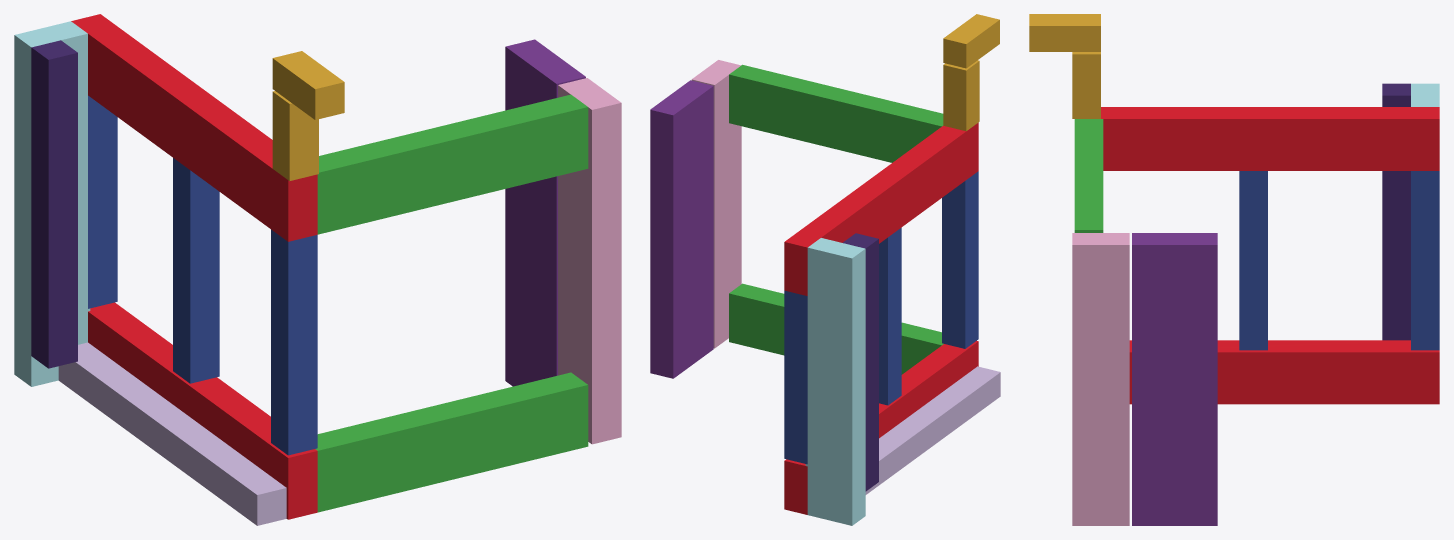
Rendered from tinker.obj.
3 views of the same model, side by side, from view 1: azimuth 30°, elevation 25°; view 2: azimuth 150°, elevation 25°; view 3: azimuth 270°, elevation 25° (orthographic). The views are drawn at different scales.
Parts seen in each view (by area): view 1: group_0_4634441, group_0_15277357, group_0_3888547, group_0_15708628, group_0_4796018, group_0_8273816, group_0_13877221, group_0_11593967, group_0_14789940; view 2: group_0_8273816, group_0_4634441, group_0_11593967, group_0_15277357, group_0_3888547, group_0_15708628, group_0_13877221, group_0_14789940, group_0_4796018; view 3: group_0_15277357, group_0_8273816, group_0_15708628, group_0_3888547, group_0_4796018, group_0_14789940, group_0_4634441, group_0_11593967.
Part boxes in pixels (<box>): group_0_4634441: <box>315,94,588,512</box>; group_0_15277357: <box>71,14,317,519</box>; group_0_3888547: <box>88,95,317,455</box>; group_0_15708628: <box>558,78,621,444</box>; group_0_4796018: <box>31,40,77,368</box>; group_0_8273816: <box>505,39,585,386</box>; group_0_13877221: <box>58,342,286,525</box>; group_0_11593967: <box>14,21,90,386</box>; group_0_14789940: <box>272,51,344,180</box>; group_0_8273816: <box>650,80,713,378</box>; group_0_4634441: <box>729,64,943,374</box>; group_0_11593967: <box>805,238,865,525</box>; group_0_15277357: <box>784,122,978,514</box>; group_0_3888547: <box>784,171,978,464</box>; group_0_15708628: <box>691,60,741,348</box>; group_0_13877221: <box>865,366,1000,494</box>; group_0_14789940: <box>943,14,999,131</box>; group_0_4796018: <box>843,233,878,491</box>; group_0_15277357: <box>1101,107,1439,404</box>; group_0_8273816: <box>1132,233,1217,525</box>; group_0_15708628: <box>1072,233,1129,525</box>; group_0_3888547: <box>1239,171,1439,350</box>; group_0_4796018: <box>1382,83,1410,340</box>; group_0_14789940: <box>1029,14,1100,118</box>; group_0_4634441: <box>1074,119,1103,232</box>; group_0_11593967: <box>1411,83,1439,106</box>.
Bounding box in the file's own units: 158 × 175 × 172.
